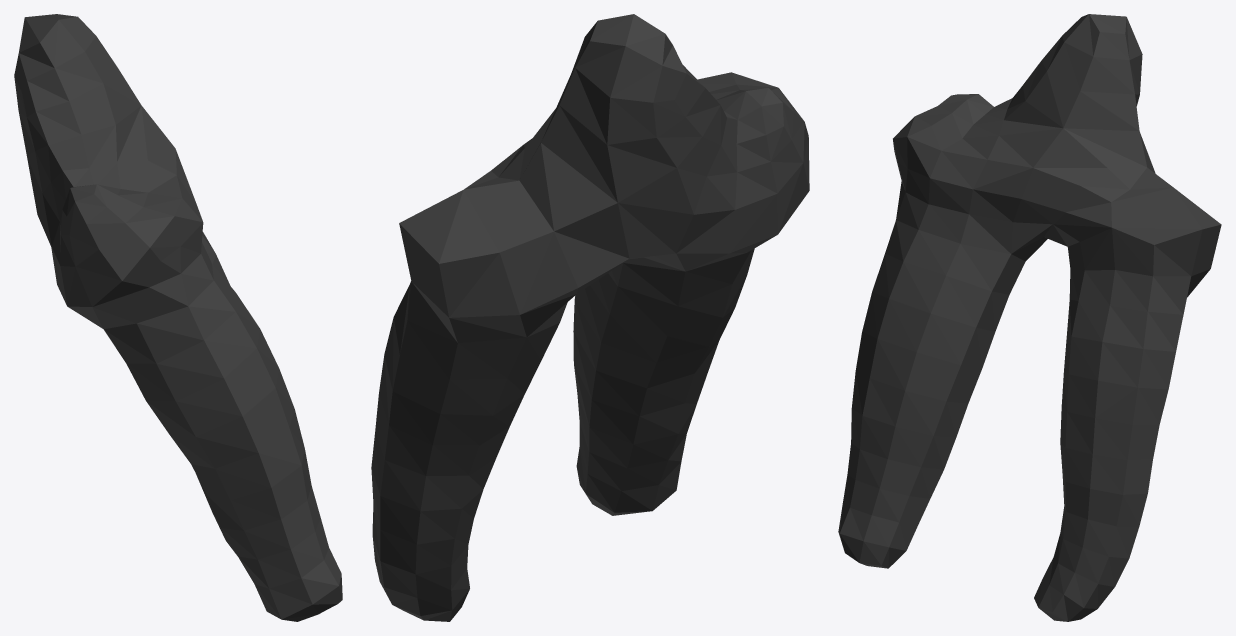
3 views of the same model, side by side, from view 1: azimuth 30°, elevation 25°; view 2: azimuth 150°, elevation 25°; view 3: azimuth 270°, elevation 25° (orthographic). The views are drawn at different scales.
Parts seen in each view (by area): view 1: world; view 2: world; view 3: world.
Boxes of the visible parts, x1,y1,x2,y2 form: world: [14, 14, 342, 621]; world: [371, 14, 809, 621]; world: [838, 14, 1221, 621].
Bounding box in the file's own units: 0.0549 × 0.105 × 0.0699.
Materials: 1 (1 with a texture image).
